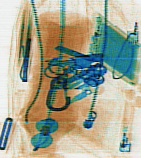lighter: (117, 102, 134, 151)
